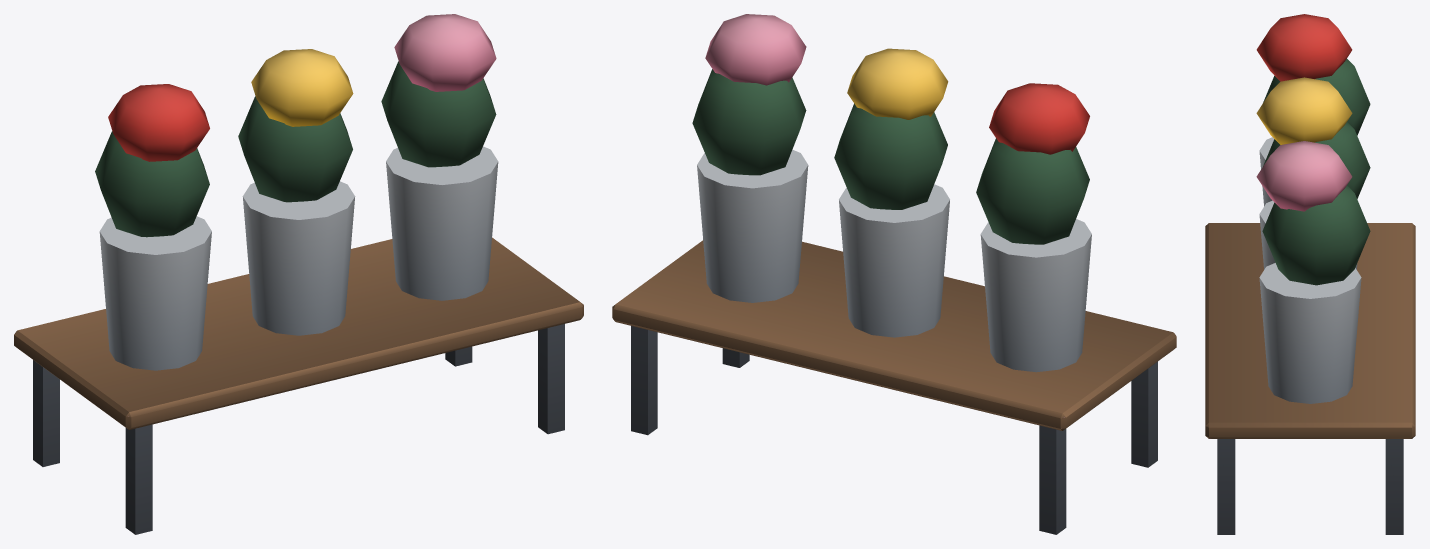
File: ck_flower_buckets.fbx
3 views of the same model, side by side, from view 1: azimuth 30°, elevation 25°; view 2: azimuth 150°, elevation 25°; view 3: azimuth 270°, elevation 25° (orthographic). The views are drawn at different scales.
Parts seen in each view (by area): view 1: ck_flower_buckets; view 2: ck_flower_buckets; view 3: ck_flower_buckets.
Boxes of the visible parts, x1,y1,x2,y2 form: ck_flower_buckets: (14, 14, 583, 534); ck_flower_buckets: (612, 14, 1176, 534); ck_flower_buckets: (1205, 14, 1415, 534).
Size of the model in its own units: 260 by 213 by 114.
